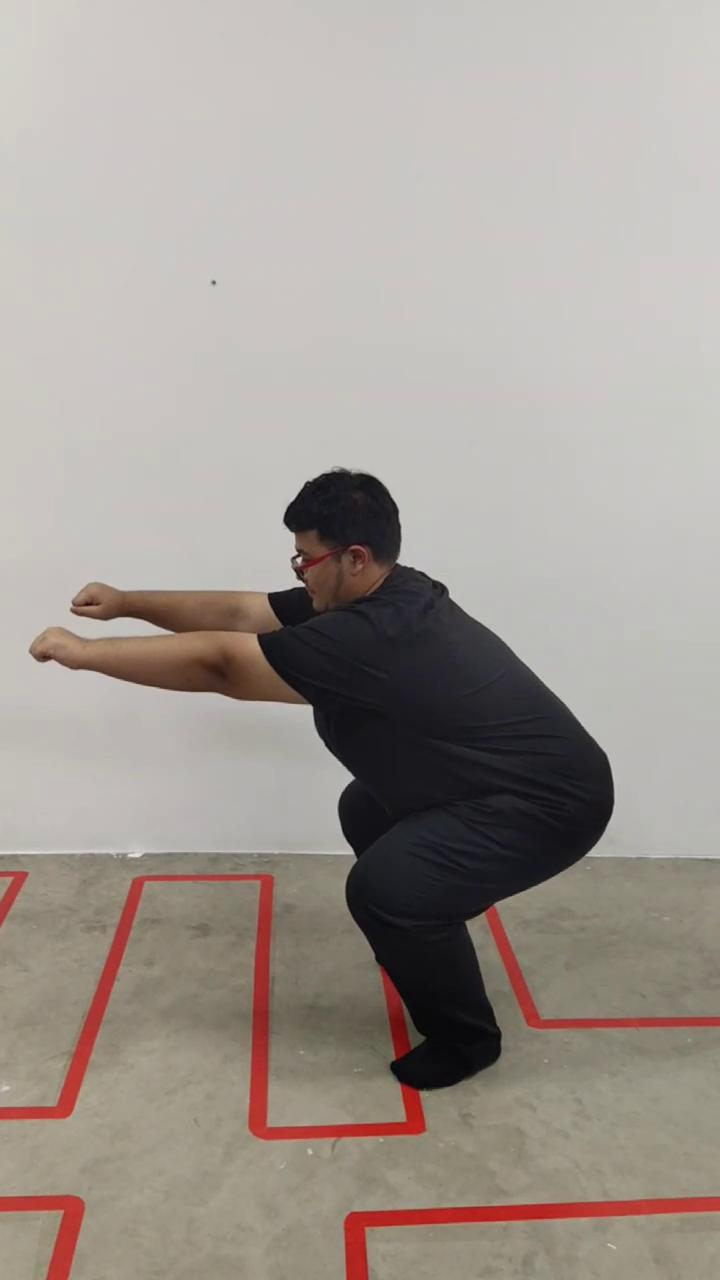squat down: (36, 468, 615, 1094)
